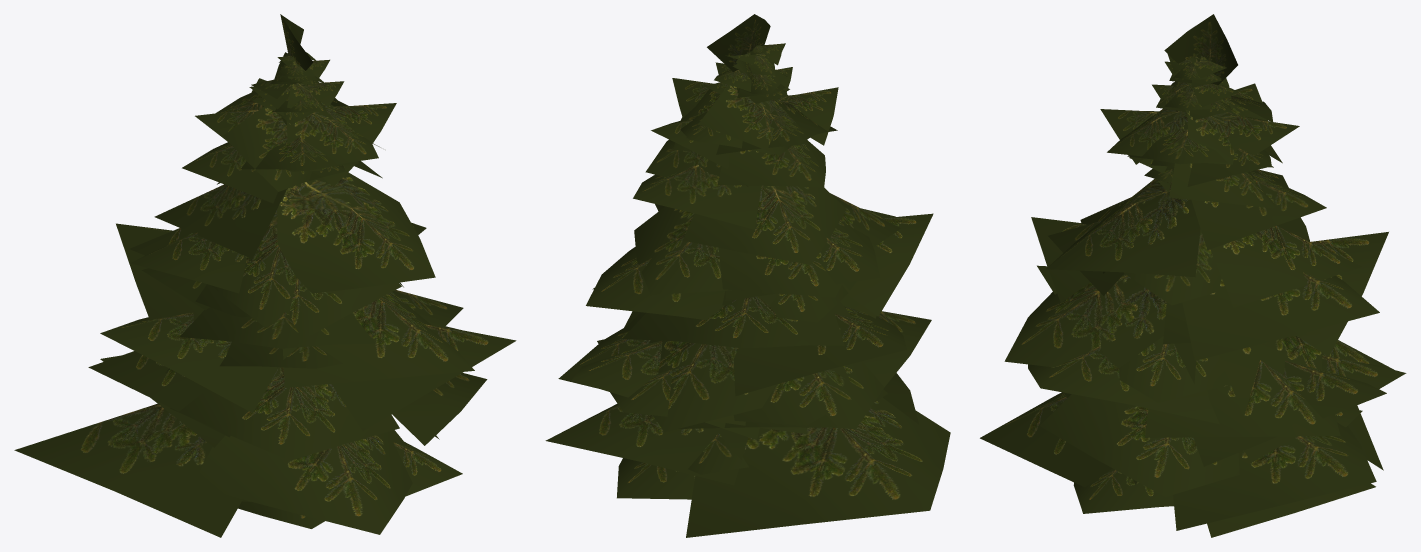
File: pine.obj
The picture shows the model from 3 angles, left to right: view 1: azimuth 30°, elevation 25°; view 2: azimuth 150°, elevation 25°; view 3: azimuth 270°, elevation 25°; orthographic projection.
Visible parts, largest first — view 1: PineTree; view 2: PineTree; view 3: PineTree.
Part boxes in pixels (x1,y1,x2,y2): PineTree: (14,14,516,537); PineTree: (545,14,950,537); PineTree: (980,14,1406,537).
Bounding box in the file's own units: 4.39 × 4.83 × 4.
Materials: 2 (2 with a texture image).
